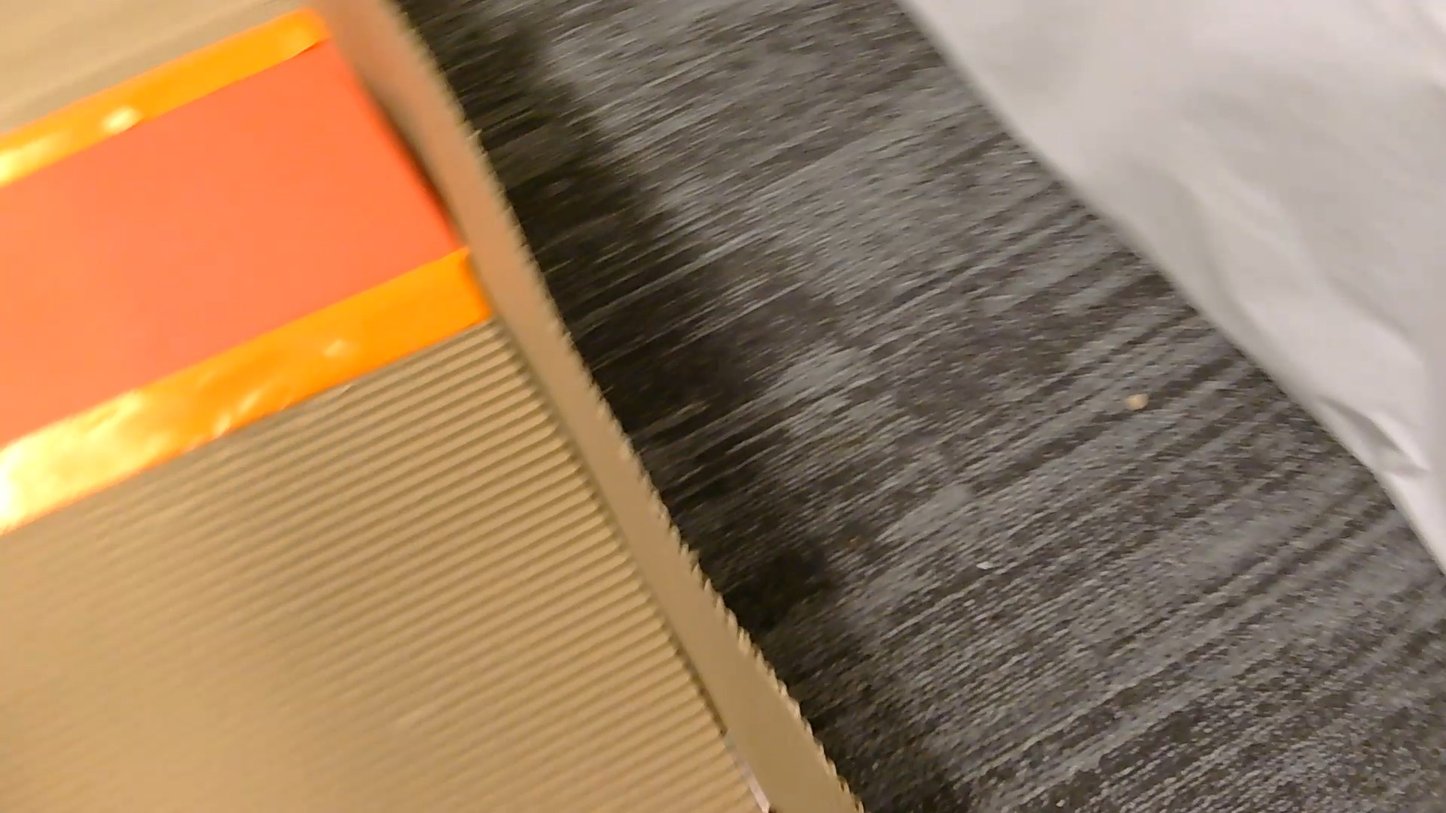Ramp: (0, 0, 859, 812)
